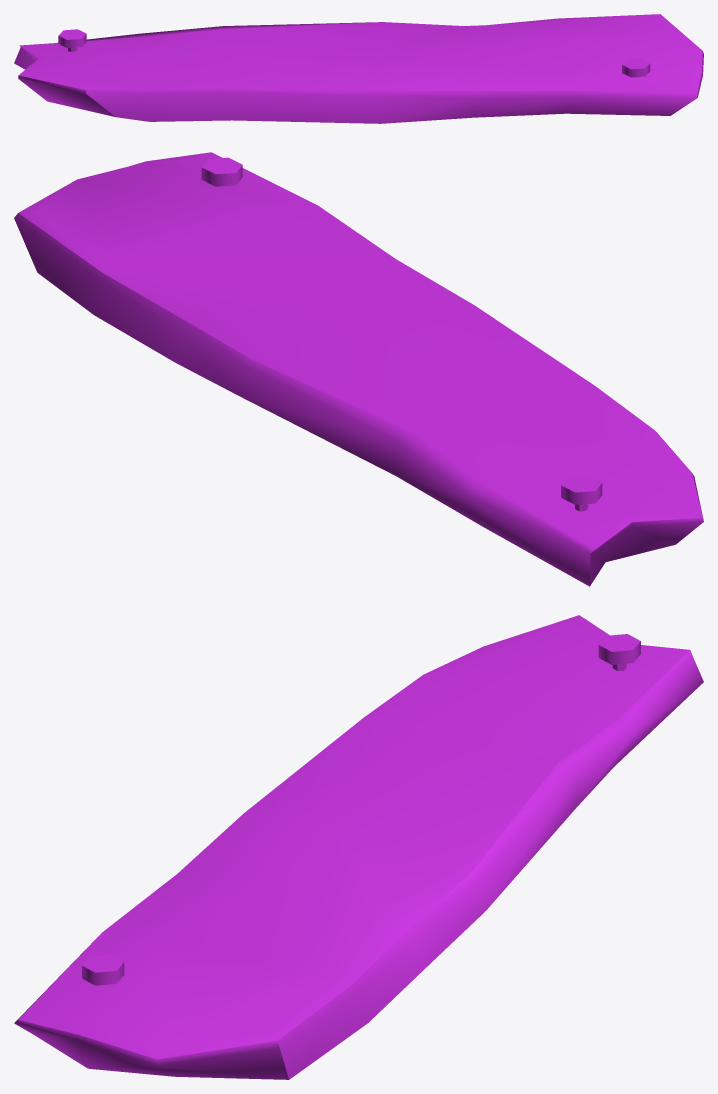
The model's file is wsinglestair.fbx.
3 renders of one model, top to bottom at view 1: azimuth 30°, elevation 25°; view 2: azimuth 150°, elevation 25°; view 3: azimuth 270°, elevation 25°, orthographic. The views are drawn at different scales.
Parts seen in each view (by area): view 1: Object940; view 2: Object940; view 3: Object940.
Part boxes in pixels (x1,y1,x2,y2): Object940: (14, 14, 703, 123); Object940: (14, 152, 703, 586); Object940: (14, 615, 703, 1079).
Size of the model in its own units: 109 by 9.97 by 74.58.
